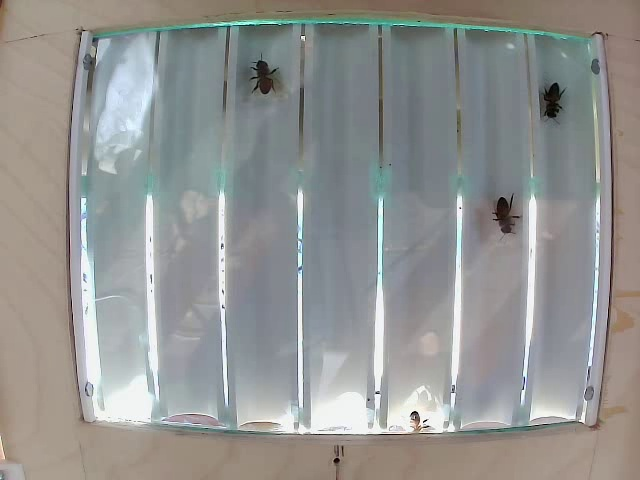bee: (489, 183, 520, 250), (243, 64, 285, 107), (396, 400, 429, 439), (548, 83, 575, 125)
